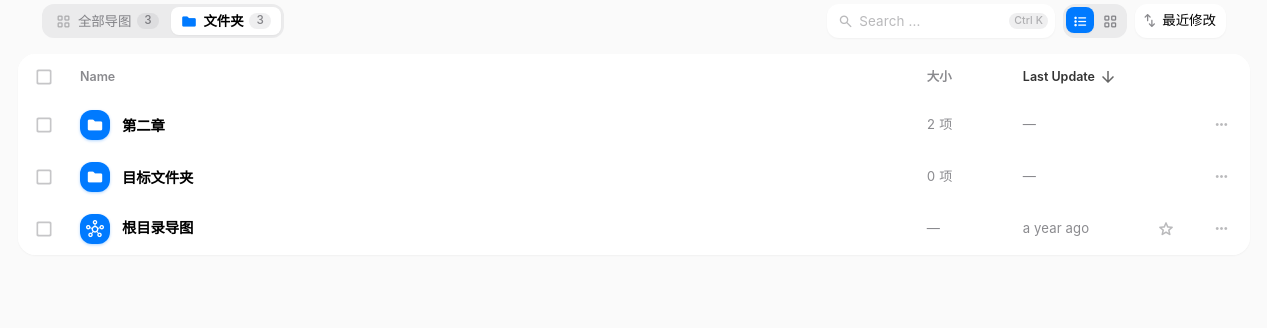
Test case: Main workspace folder browser & segmented switcher › supports folder checkboxes in grid view without opening the folder
Check: the row with test id "folder-row-1" is shown, box [18,99,1250,151]
Click the button named "栅格视图" at (1110, 21), box [1096,8,1124,34]
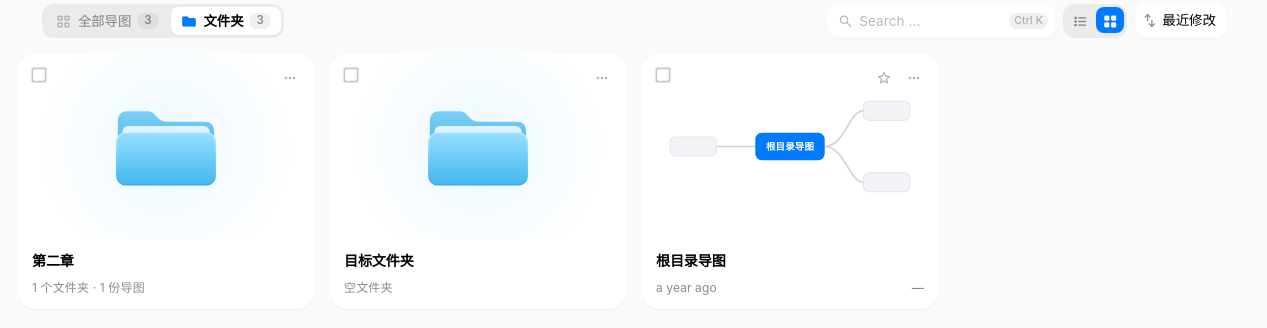
Check: the element with test id "folder-grid-card-1" is shown, box [18,54,314,309]
Click the checkbox named "选择文件夹 第二章" at (39, 75), box [29,65,49,85]
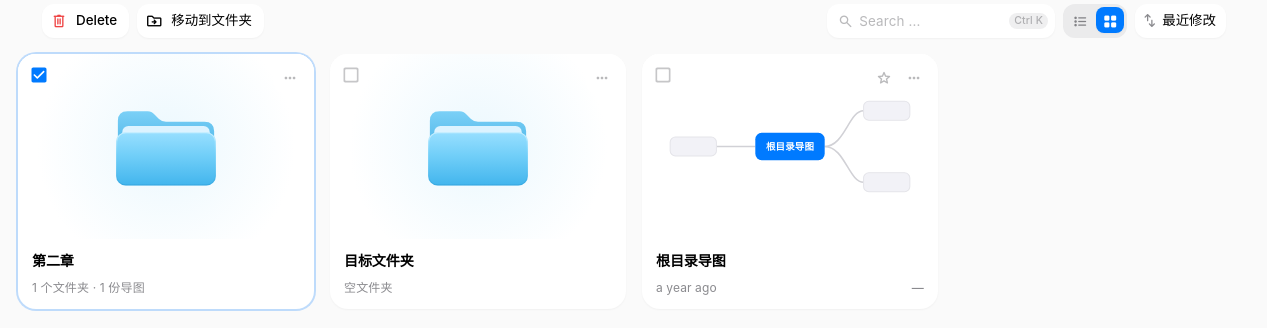
Check: the checkbox named "选择文件夹 第二章" is checked, box [29,65,49,85]
Check: the element with test id "folder-grid-card-3" is shown, box [330,54,626,309]
Check: the button with aria-label "将选中文件夹移动到其他文件夹" is shown, box [137,4,264,38]
